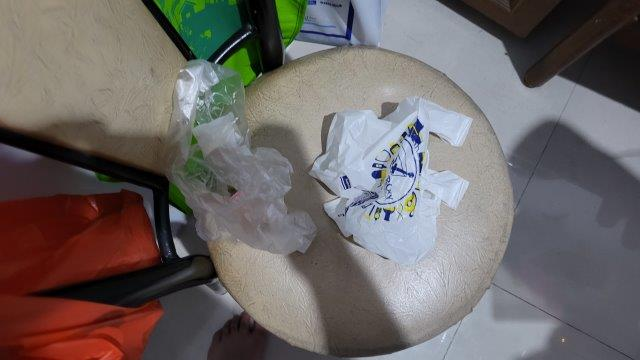plastik: (160, 60, 317, 260), (320, 62, 474, 263)
